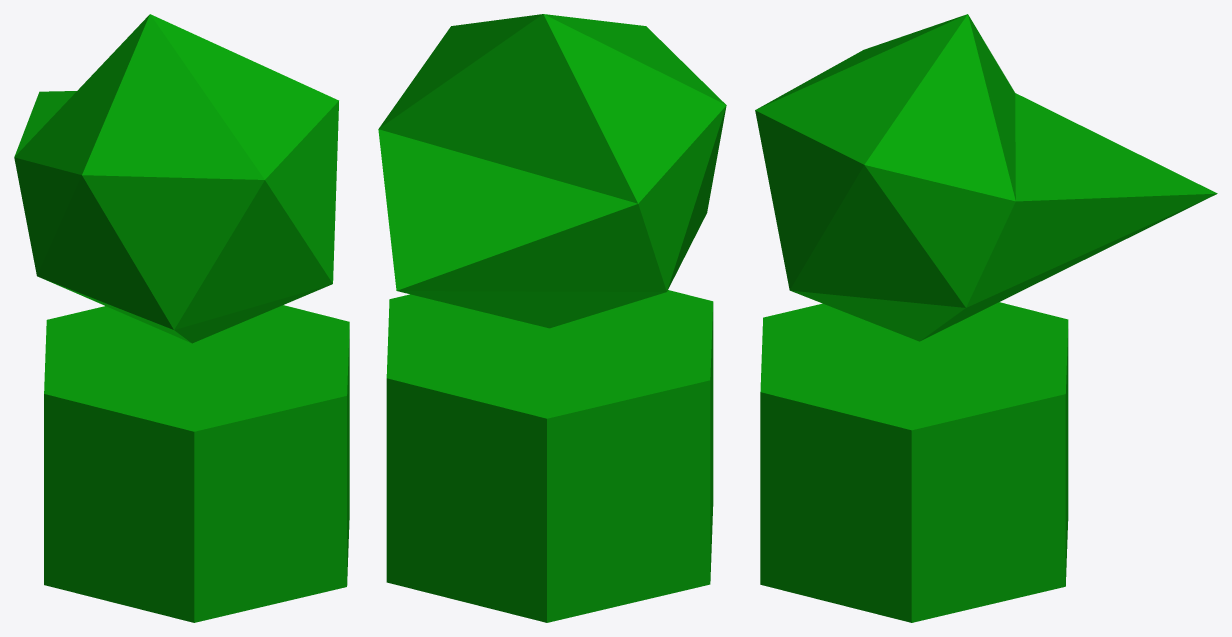
Rendered from ico_man.obj.
3 views of the same model, side by side, from view 1: azimuth 30°, elevation 25°; view 2: azimuth 150°, elevation 25°; view 3: azimuth 270°, elevation 25° (orthographic). The views are drawn at different scales.
Visible parts, largest first — view 1: Cylinder; view 2: Cylinder; view 3: Cylinder.
Boxes of the visible parts, <box> form: Cylinder: <box>14,14,349,622</box>; Cylinder: <box>378,14,726,622</box>; Cylinder: <box>755,14,1217,622</box>.
Bounding box in the file's own units: 2 × 3.28 × 2.63.
